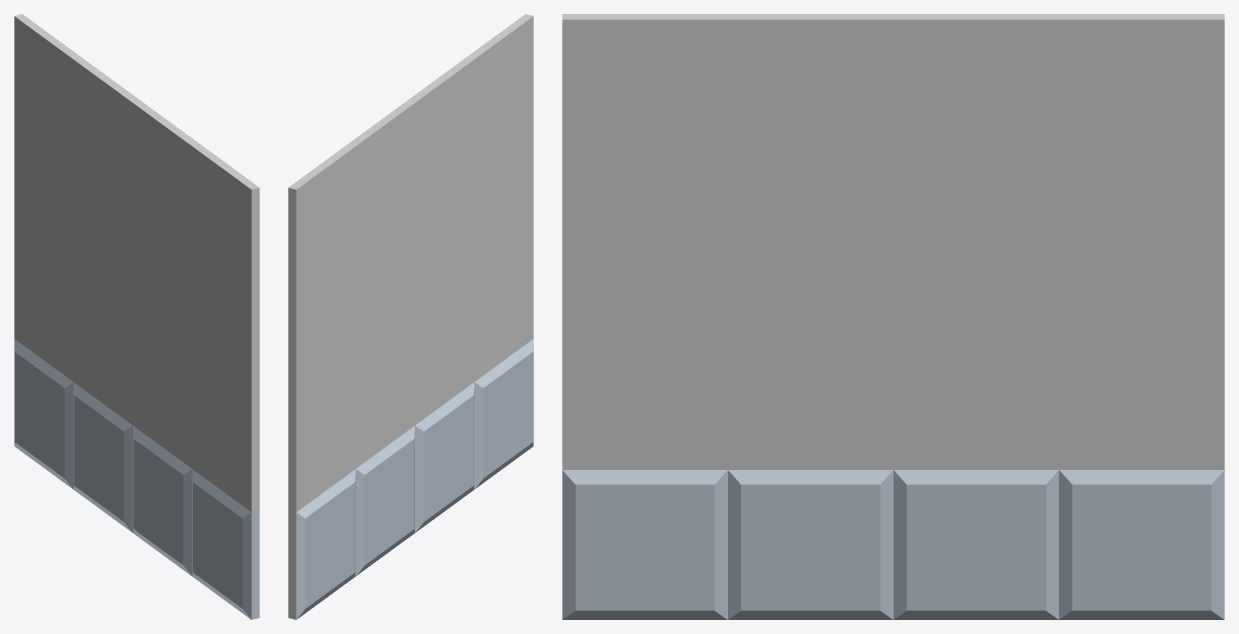
File: sciana.glb
3 renders of one model, left to right at view 1: azimuth 30°, elevation 25°; view 2: azimuth 150°, elevation 25°; view 3: azimuth 270°, elevation 25°, orthographic. The views are drawn at different scales.
Visible parts, largest first — view 1: Cube; view 2: Cube; view 3: Cube.
Boxes of the visible parts, bbox=[...] form: Cube: bbox=[14, 14, 259, 619]; Cube: bbox=[288, 14, 533, 619]; Cube: bbox=[562, 14, 1224, 619].
Bounding box in the file's own units: 0.16 × 4 × 4.
